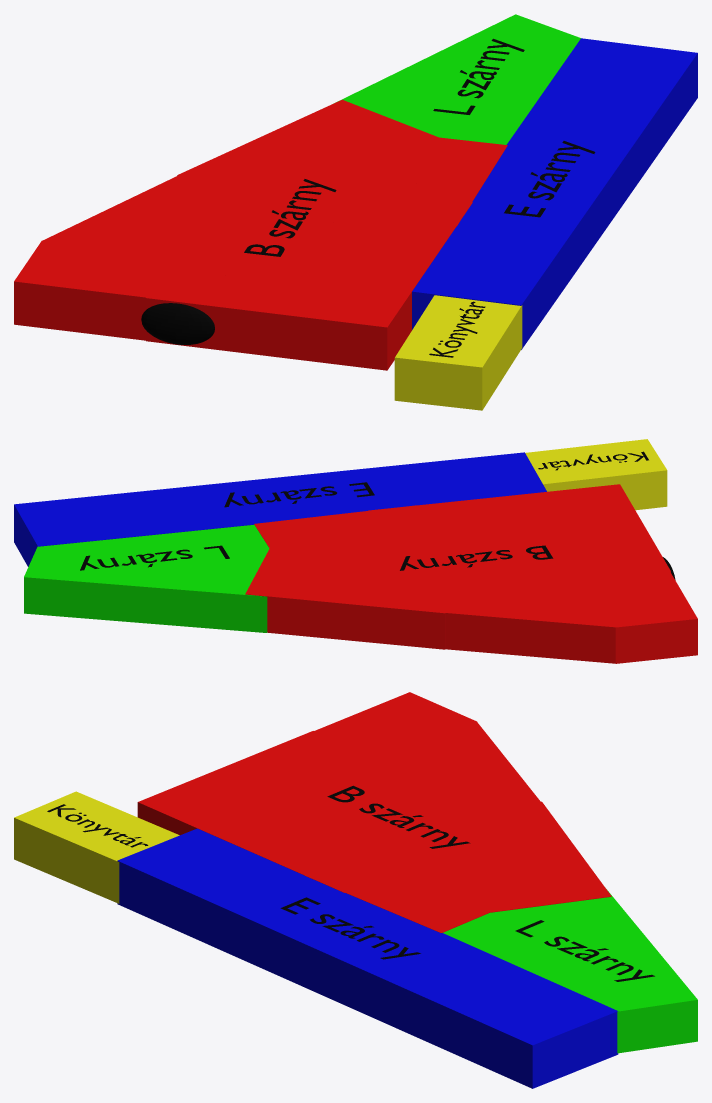
Rendered from building_I.glb.
3 renders of one model, top to bottom at view 1: azimuth 30°, elevation 25°; view 2: azimuth 150°, elevation 25°; view 3: azimuth 270°, elevation 25°, orthographic. The views are drawn at different scales.
Visible parts, largest first — view 1: Sphere; view 2: Sphere; view 3: Sphere.
Part boxes in pixels (x1,y1,x2,y2): Sphere: (14,14,697,410); Sphere: (14,439,697,663); Sphere: (14,692,697,1088).
Size of the model in its own units: 3.56 by 0.2152 by 2.92.
